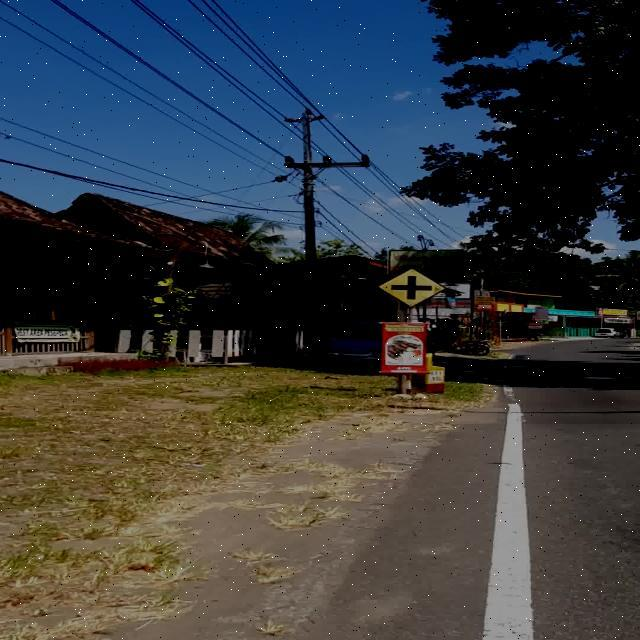Persimpangan 4: (377, 268, 446, 308)
